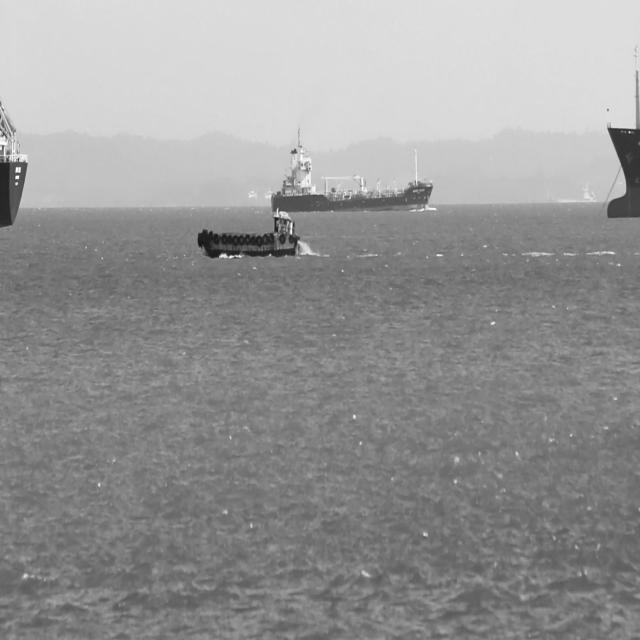ship: (270, 121, 433, 212), (606, 44, 639, 219), (197, 207, 303, 258), (0, 100, 27, 227)
